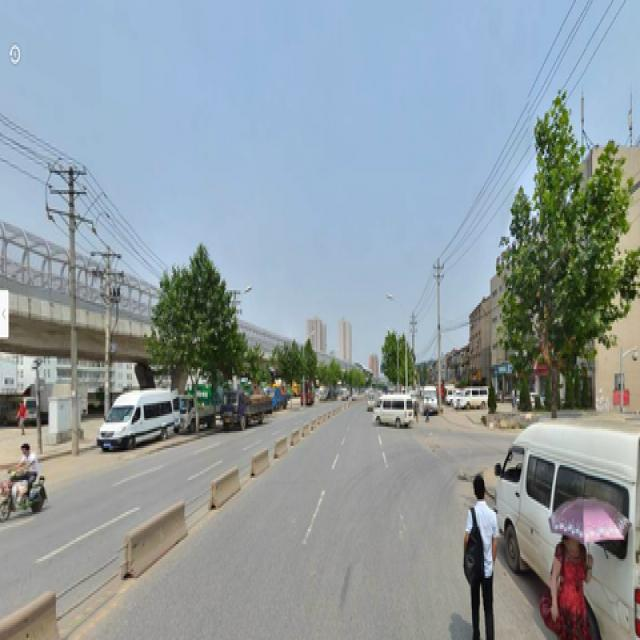meta: (515, 105, 604, 420), (168, 262, 217, 429)
